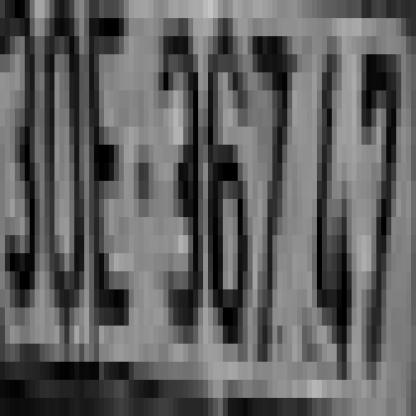0: (45, 18, 84, 308)
3: (159, 18, 203, 326)
4: (307, 36, 352, 362)
6: (208, 18, 248, 326)
7: (248, 36, 292, 344), (357, 54, 396, 362)
E: (89, 18, 134, 308)
